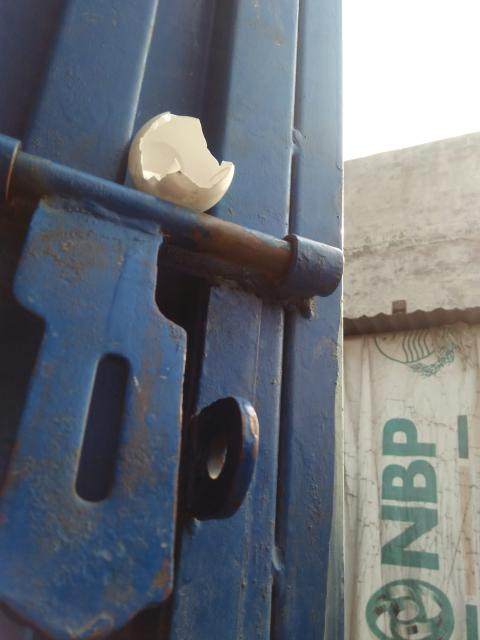Roto: (126, 110, 235, 213)
